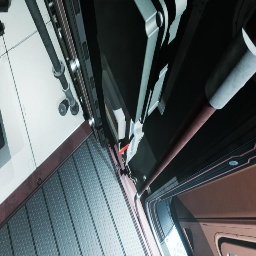SafetySwitchPanel ,: (97, 34, 144, 165)
